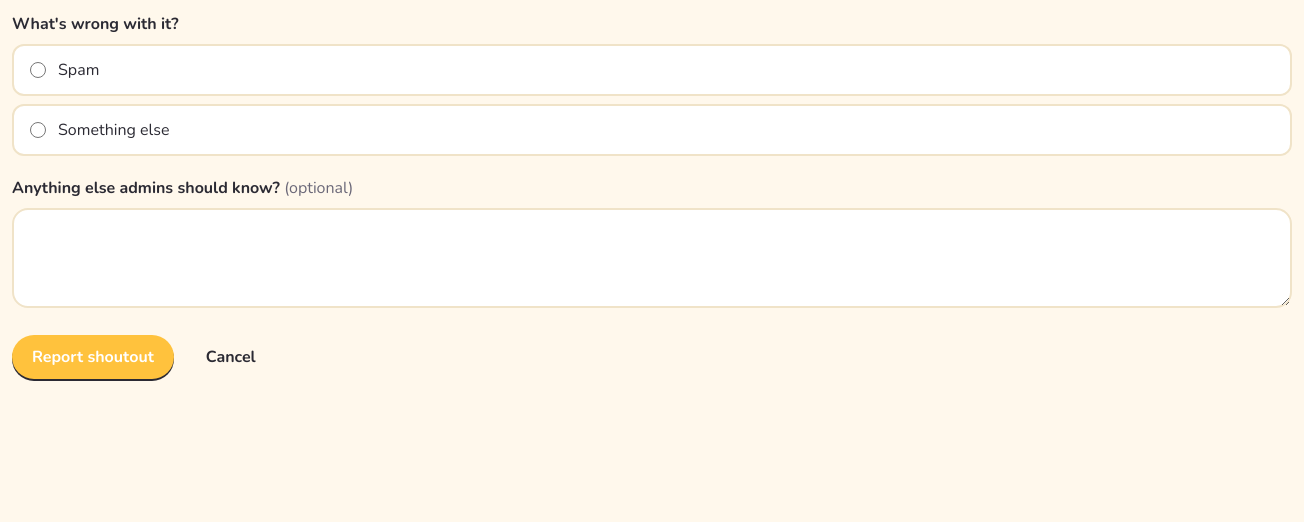
Test case: ReportForm › shows errors
Click the button "Report shoutout": (93, 357) x1=12 y1=335 x2=174 y2=379
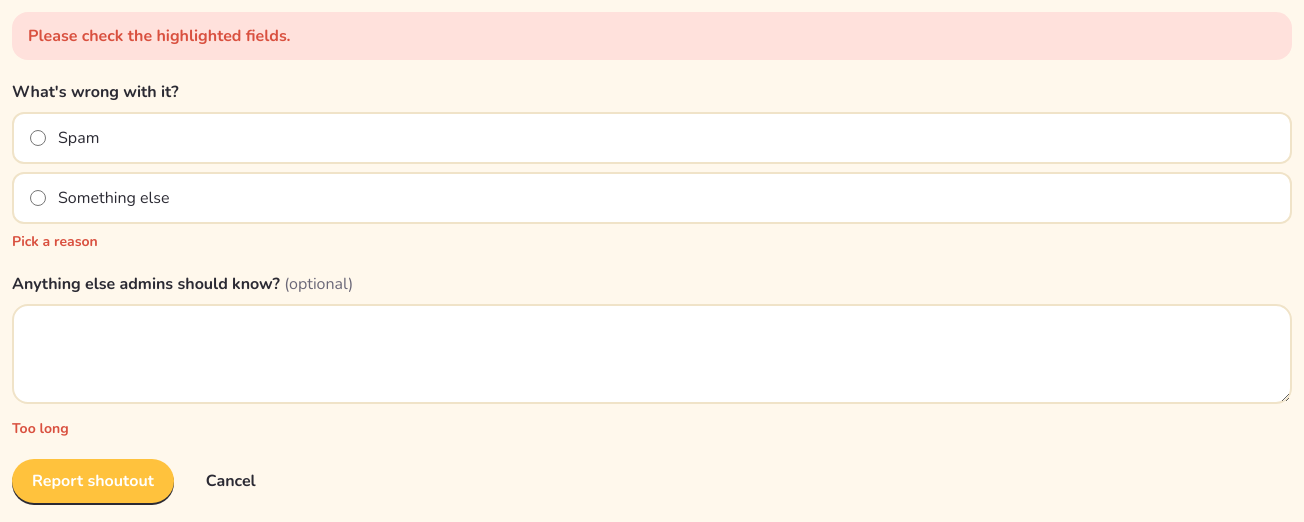
Expected: the message shows "Please check", x1=28 y1=25 x2=291 y2=47
Expected: the text "Pick a reason" is shown, x1=12 y1=232 x2=98 y2=251
Expected: the text "Too long" is shown, x1=12 y1=419 x2=69 y2=438
